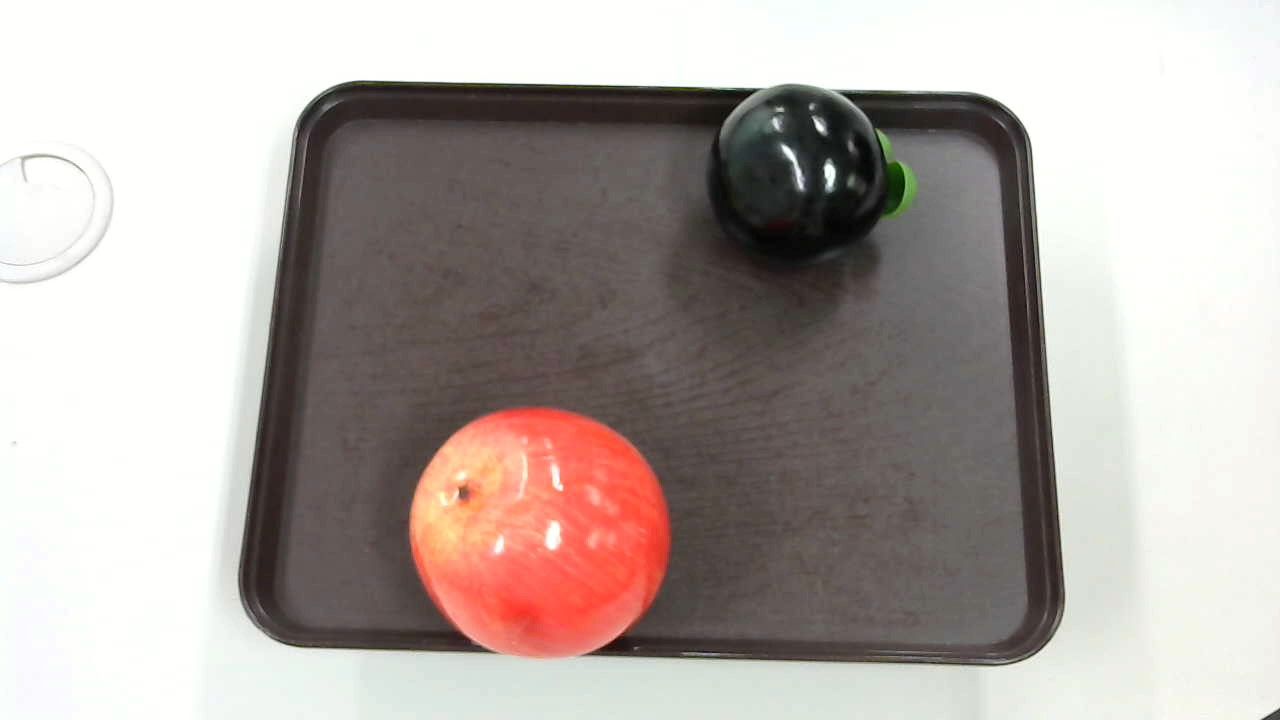mangosteen: (712, 86, 915, 271)
red apple: (407, 407, 673, 663)
